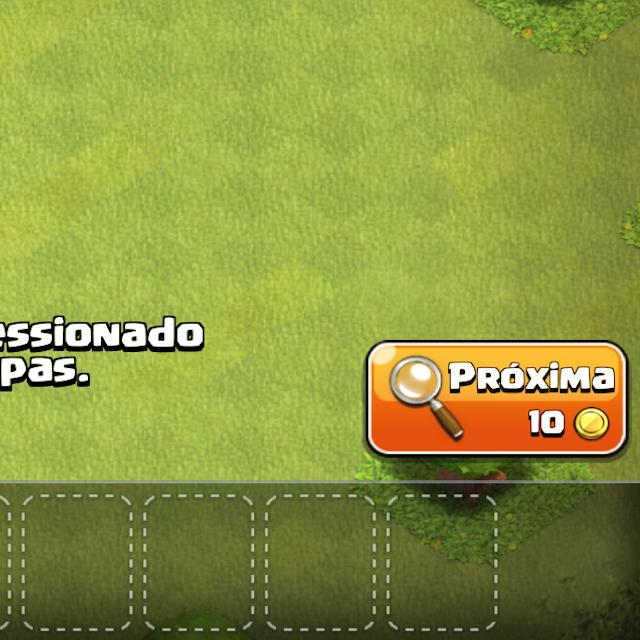Next: (365, 338, 631, 468)
